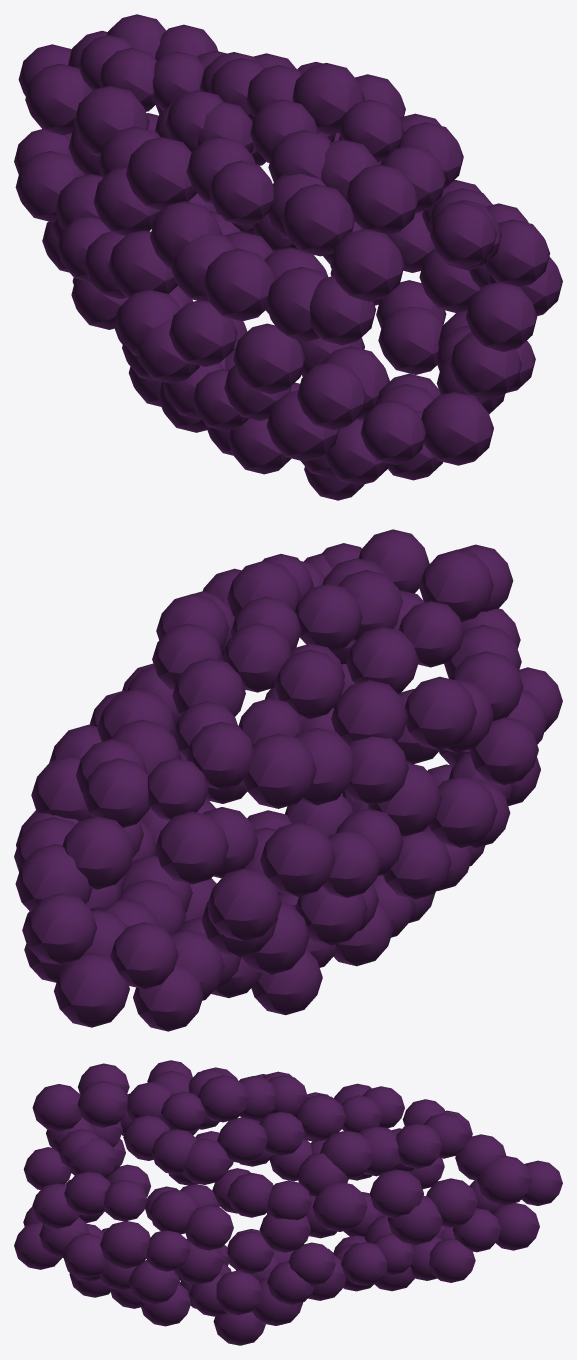
The model's file is berries.obj.
3 views of the same model, one above another, from view 1: azimuth 30°, elevation 25°; view 2: azimuth 150°, elevation 25°; view 3: azimuth 270°, elevation 25° (orthographic). The views are drawn at different scales.
Parts seen in each view (by area): view 1: berries; view 2: berries; view 3: berries.
Boxes of the visible parts, x1,y1,x2,y2 form: berries: (14,14,562,500); berries: (14,529,562,1031); berries: (14,1060,562,1345).
Bounding box in the file's own units: 0.1049 × 0.1051 × 0.203.
